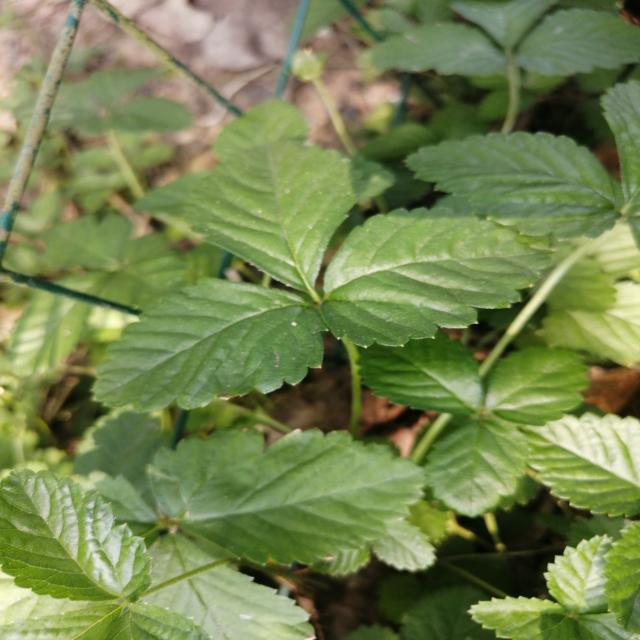Mock_strawberry: (5, 401, 412, 630)
